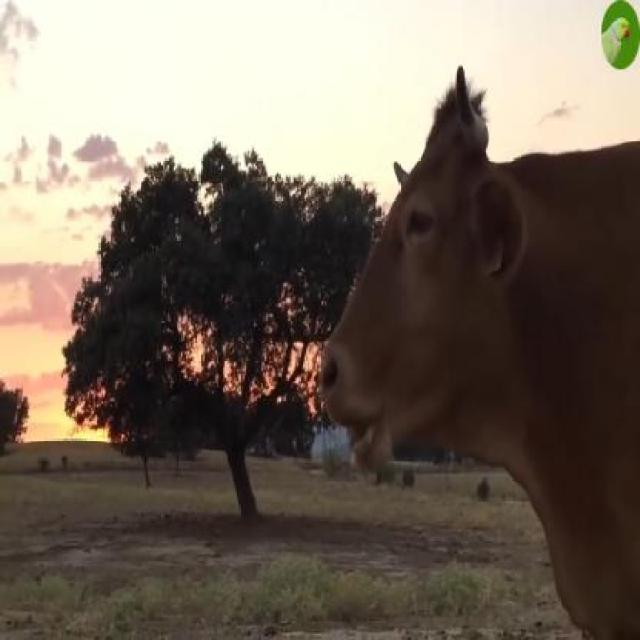Cow: (320, 63, 638, 639)
